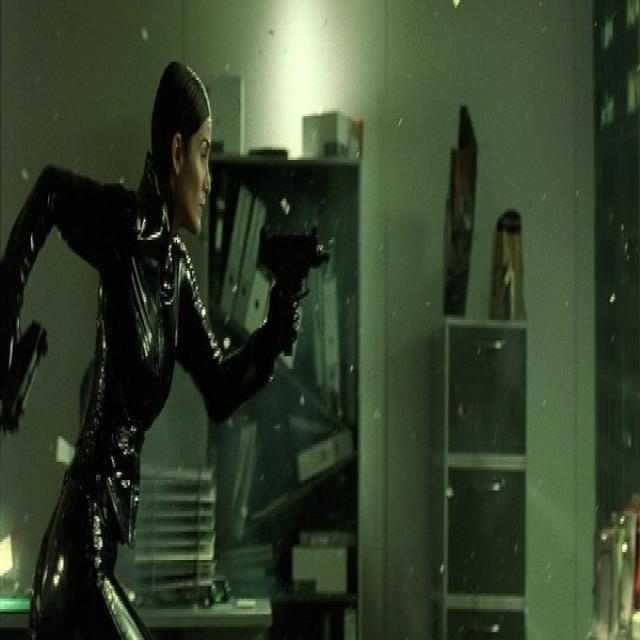rifle: (259, 219, 333, 361)
